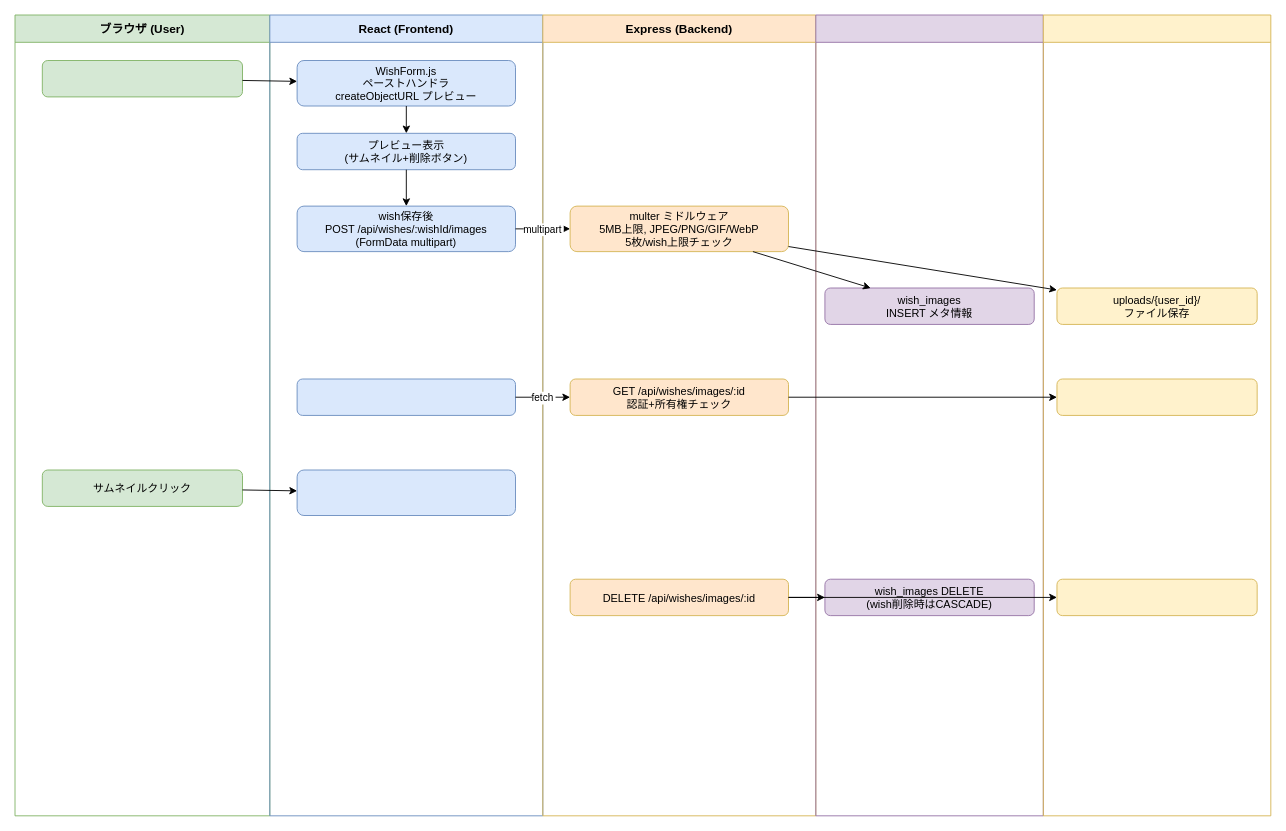
This 1286x831 diagram has some shape labels left out. The box of each missing label's shape, as (x1, y1, x2, y2) in pixels:
Ctrl+V ペースト or ファイル選択: (41, 60, 243, 97)
ImageModal.js 全画面ビューア (ESC/オーバーレイで閉じ): (296, 469, 516, 516)
MySQL (DB): (815, 14, 1043, 816)
WishList.js サムネイル表示: (296, 378, 516, 415)
ファイルシステム: (1042, 14, 1271, 816)
ファイルストリーム配信: (1056, 378, 1257, 415)
ファイル削除: (1056, 578, 1257, 616)
